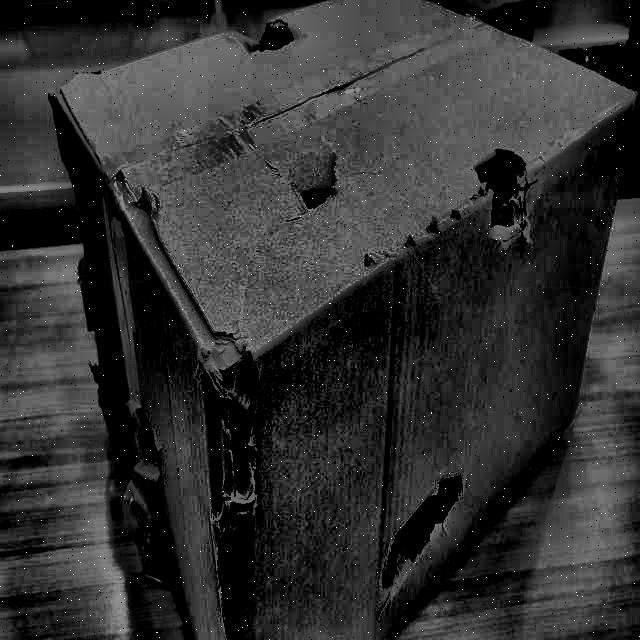box: (42, 0, 639, 639)
hole: (197, 343, 267, 502), (382, 472, 464, 590), (472, 147, 536, 249), (289, 160, 345, 217), (234, 21, 300, 62), (214, 532, 239, 640), (132, 417, 166, 492)
